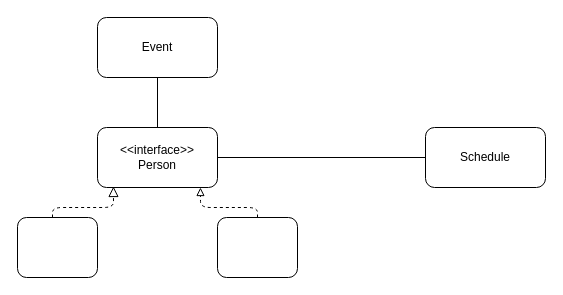
This 563x295 diagram has some shape labels left out. Here are the shapes that lost their labels. From the top down, the box of each, then its label:
(16, 216, 98, 278): Professor
(216, 216, 298, 278): CA
